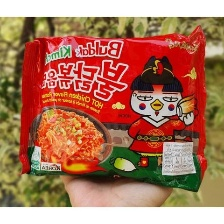snack: (12, 20, 216, 195)
